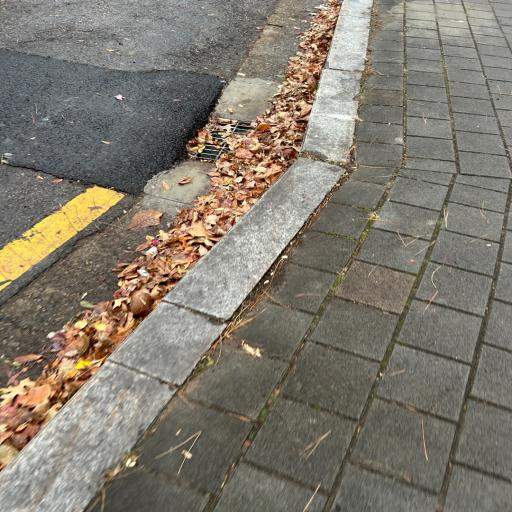debris: (186, 117, 294, 172), (194, 160, 208, 163), (231, 120, 236, 124)
drain: (183, 118, 296, 172)
